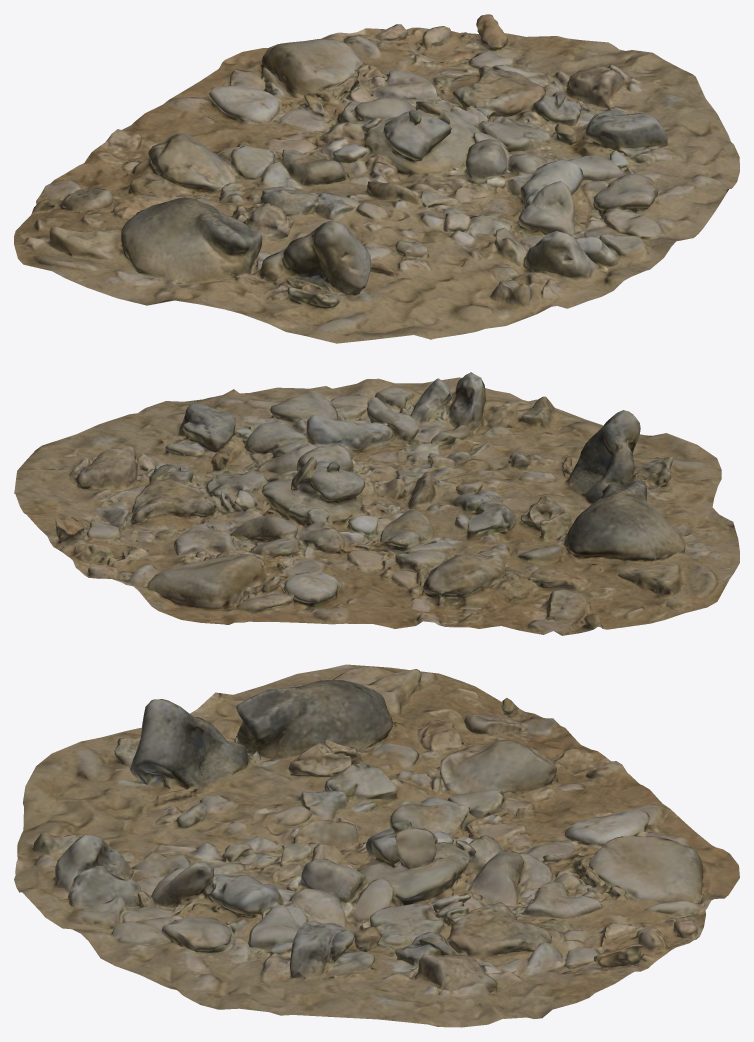
File: sand_rocks_small_01.glb
The picture shows the model from 3 angles, top to bottom: view 1: azimuth 30°, elevation 25°; view 2: azimuth 150°, elevation 25°; view 3: azimuth 270°, elevation 25°; orthographic projection. The views are drawn at different scales.
Visible parts, largest first — view 1: sand_rocks_small_01_LOD0; view 2: sand_rocks_small_01_LOD0; view 3: sand_rocks_small_01_LOD0.
Part boxes in pixels (x1,y1,x2,y2): sand_rocks_small_01_LOD0: [14, 14, 739, 343]; sand_rocks_small_01_LOD0: [14, 372, 739, 635]; sand_rocks_small_01_LOD0: [14, 664, 739, 1027].
Size of the model in its own units: 4.63 by 0.532 by 3.88.
Materials: 1 (1 with a texture image).
